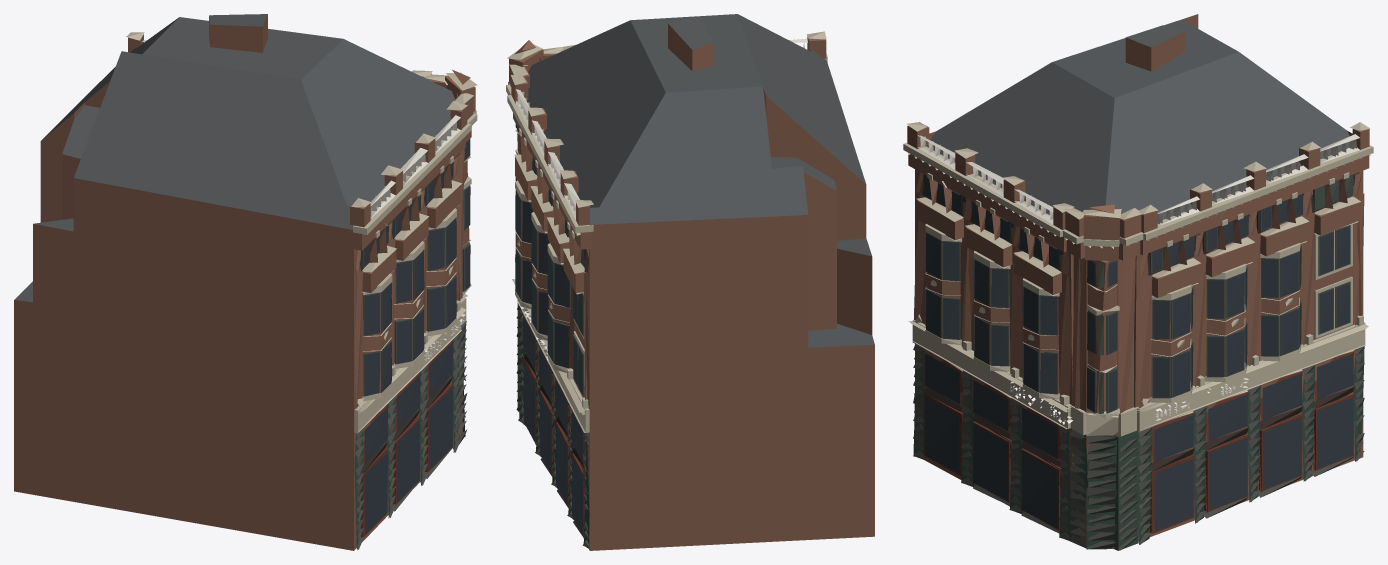
The model's file is dikker-thijs-leidsestraat.lod1.glb.
The picture shows the model from 3 angles, left to right: view 1: azimuth 30°, elevation 25°; view 2: azimuth 150°, elevation 25°; view 3: azimuth 270°, elevation 25°; orthographic projection. The views are drawn at different scales.
Parts seen in each view (by area): view 1: dikker-thijs-leidsestraat; view 2: dikker-thijs-leidsestraat; view 3: dikker-thijs-leidsestraat.
Boxes of the visible parts, x1,y1,x2,y2 form: dikker-thijs-leidsestraat: [14, 14, 477, 550]; dikker-thijs-leidsestraat: [506, 14, 874, 550]; dikker-thijs-leidsestraat: [903, 14, 1373, 550].
Bounding box in the file's own units: 26.07 × 26.94 × 26.97.
